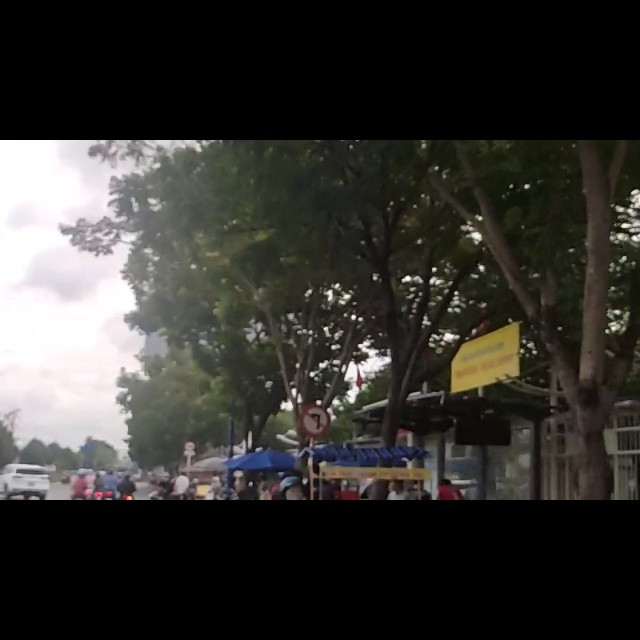bien_cam: (299, 472, 330, 527)
